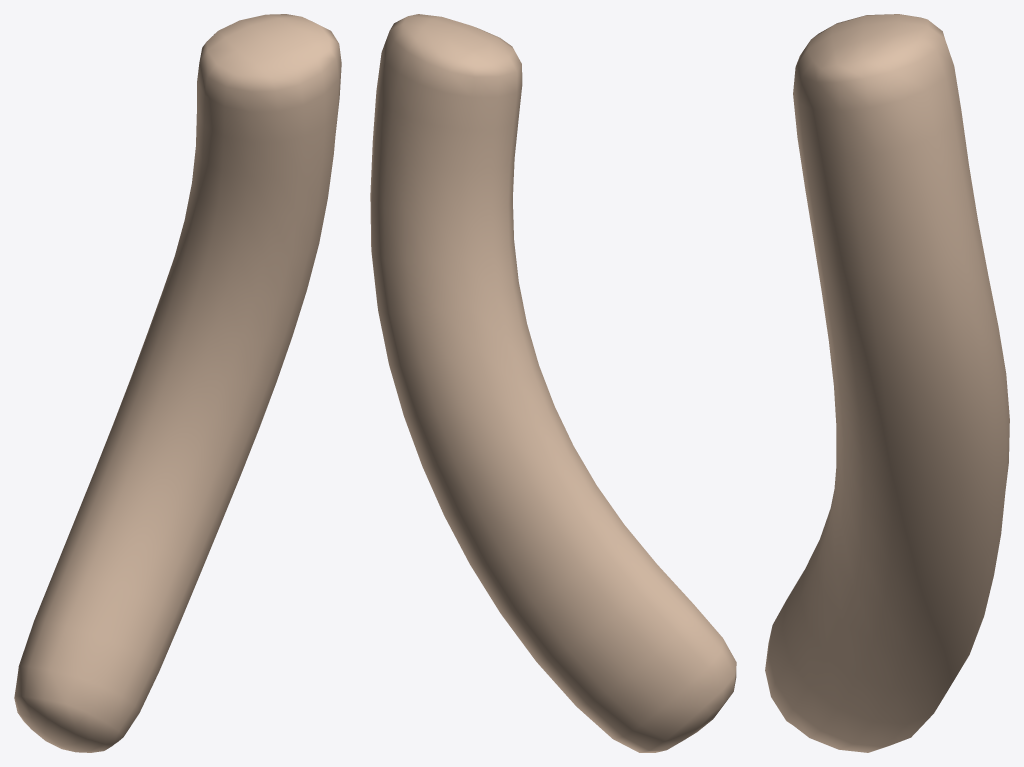
The picture shows the model from 3 angles, left to right: view 1: azimuth 30°, elevation 25°; view 2: azimuth 150°, elevation 25°; view 3: azimuth 270°, elevation 25°; orthographic projection. The views are drawn at different scales.
Parts seen in each view (by area): view 1: 左侧腓骨长肌足底腱鞘; view 2: 左侧腓骨长肌足底腱鞘; view 3: 左侧腓骨长肌足底腱鞘.
Boxes of the visible parts, x1,y1,x2,y2 form: 左侧腓骨长肌足底腱鞘: (14, 14, 341, 752); 左侧腓骨长肌足底腱鞘: (370, 14, 736, 752); 左侧腓骨长肌足底腱鞘: (765, 14, 1009, 752).
Size of the model in its own units: 0.0204 by 0.0398 by 0.0105.
